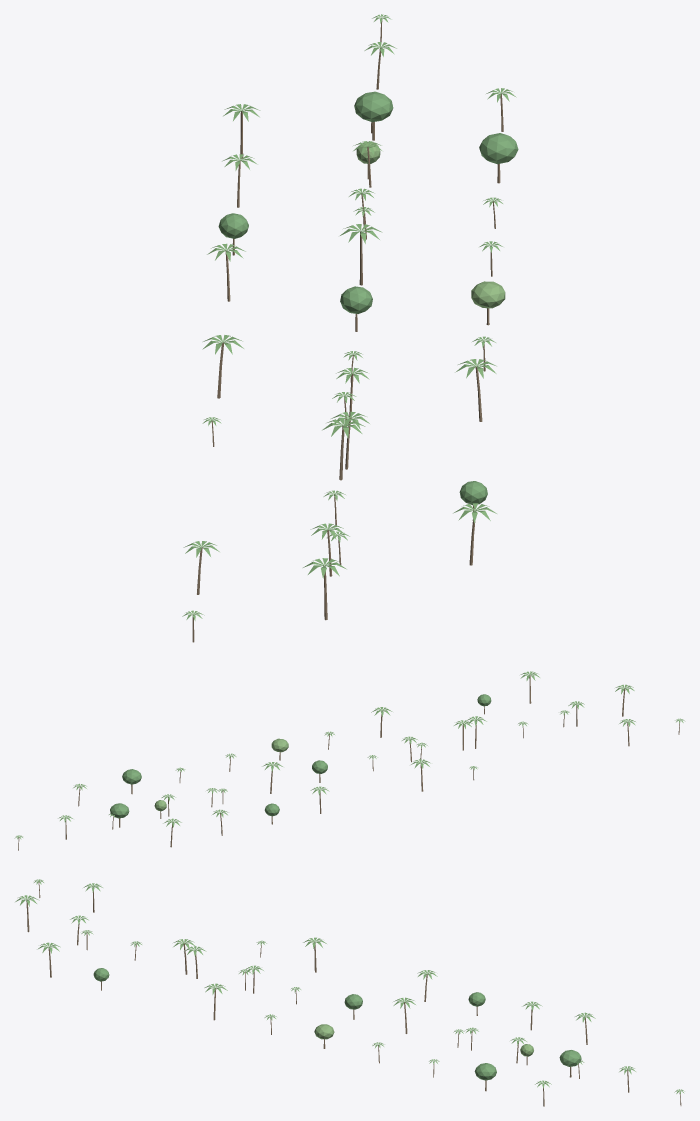
The model's file is nature_0_-8.glb.
3 renders of one model, top to bottom at view 1: azimuth 30°, elevation 25°; view 2: azimuth 150°, elevation 25°; view 3: azimuth 270°, elevation 25°, orthographic. The views are drawn at different scales.
Visible parts, largest first — view 1: palm_leaf, foliage_a, trunk, foliage_b; view 2: palm_leaf, trunk, foliage_a, foliage_b; view 3: palm_leaf, trunk, foliage_a, foliage_b.
Part boxes in pixels (x1,y1,x2,y2): palm_leaf: (182,14,516,620); foliage_a: (218,91,518,505); trunk: (192,20,503,642); foliage_b: (356,141,505,308); palm_leaf: (14,671,685,839); trunk: (18,675,679,850); foliage_a: (110,694,491,818); foliage_b: (154,738,288,811); palm_leaf: (15,879,684,1094); trunk: (26,882,681,1106); foliage_a: (93,968,581,1080); foliage_b: (314,1024,533,1056).
Size of the model in its own units: 189 by 13.5 by 250.
